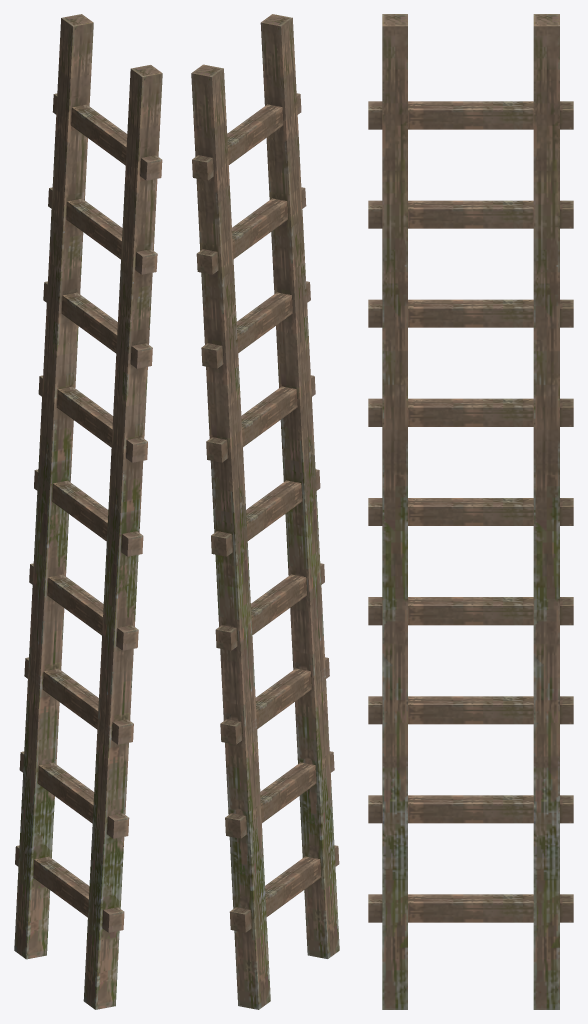
The model's file is FortBLadder.fbx.
3 views of the same model, side by side, from view 1: azimuth 30°, elevation 25°; view 2: azimuth 150°, elevation 25°; view 3: azimuth 270°, elevation 25° (orthographic). The views are drawn at different scales.
Visible parts, largest first — view 1: FortBLadder; view 2: FortBLadder; view 3: FortBLadder.
Part boxes in pixels (x1,y1,x2,y2): FortBLadder: (14, 14, 162, 1009); FortBLadder: (191, 14, 339, 1009); FortBLadder: (368, 14, 573, 1009).
Bounding box in the file's own units: 45.67 × 595 × 110.
1 material, 1 textured.
